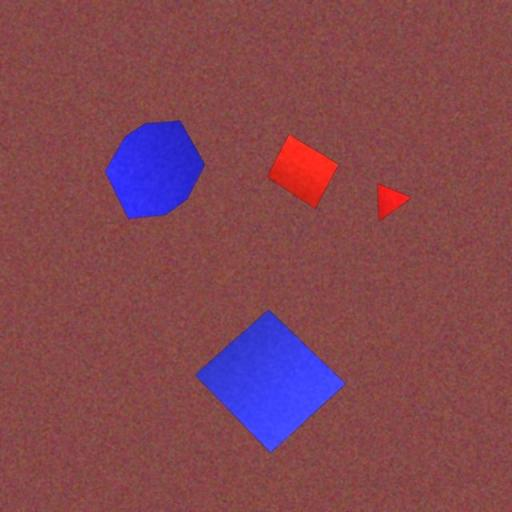BLUE_SQUARE: (194, 308, 346, 454)
RED_SQUARE: (266, 134, 340, 210)
